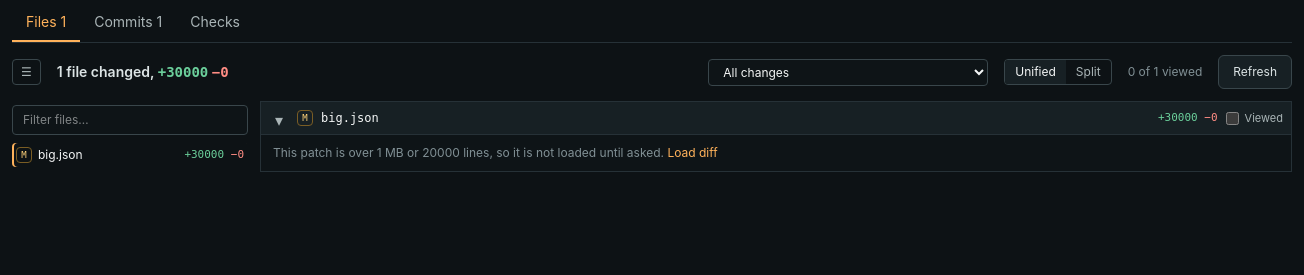
Scenario: ChangesTab › loads a too-large file only when asked
Expected: the text "not loaded until asked" is shown, [273,145,664,160]
Click the button "Load diff".
click(692, 153)  # box [667,145,718,161]
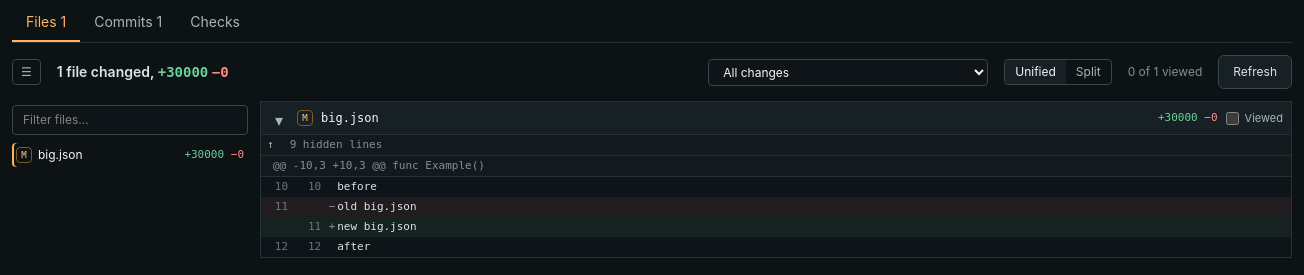
Expected: the text "new big.json" is shown, [337,220,417,233]
